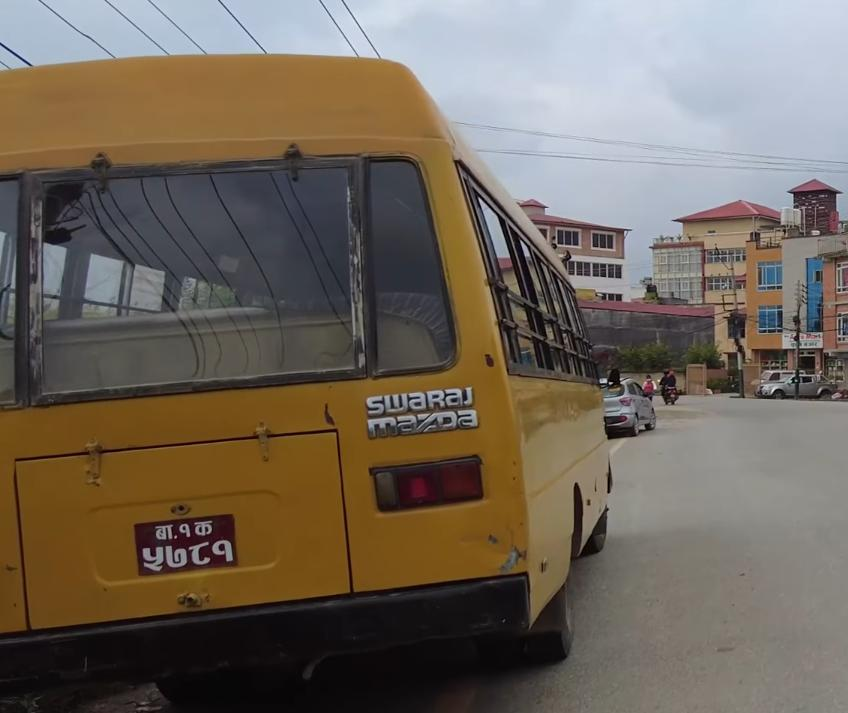car: (596, 375, 661, 441)
school_bus: (0, 50, 621, 688)
